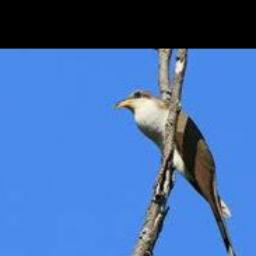Cuckoo: (115, 87, 243, 256)
